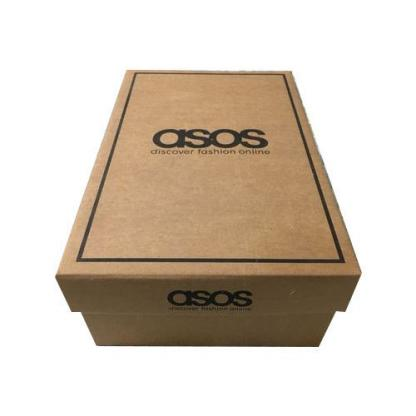box: (53, 65, 364, 353)
